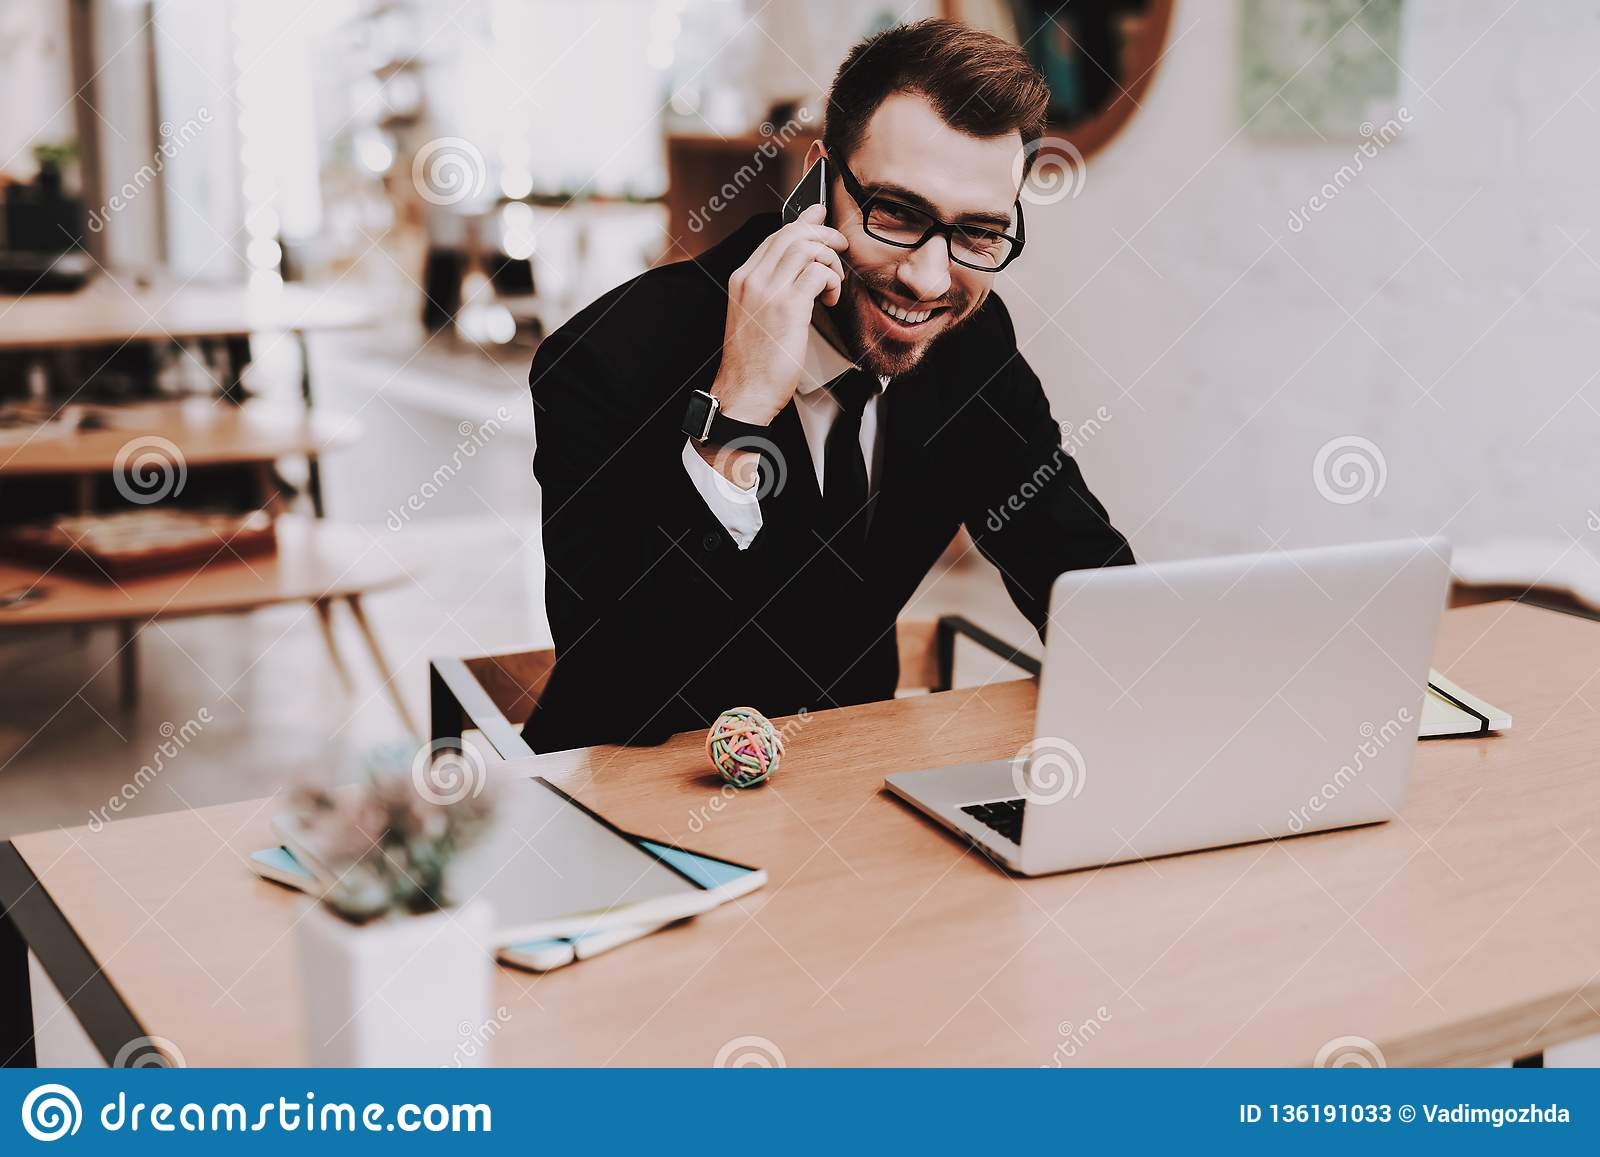phone: (776, 160, 831, 316)
talk: (723, 155, 1012, 415)
